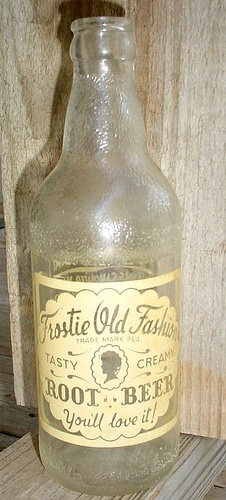emptybottle: (30, 17, 180, 492)
